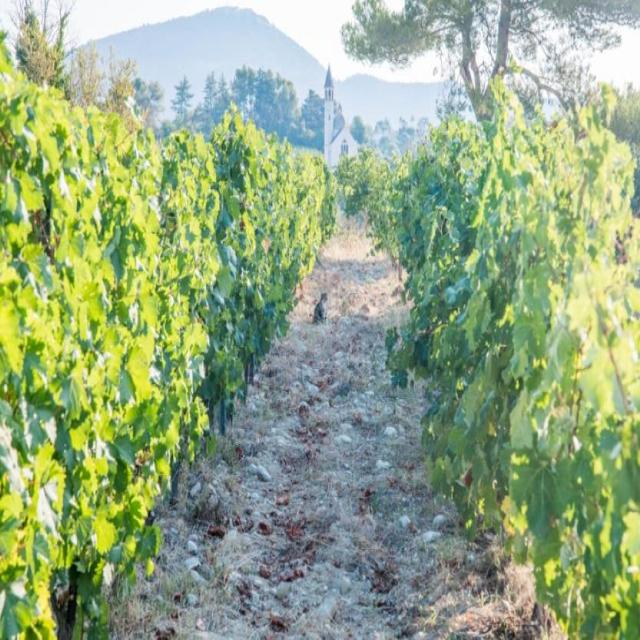row: (107, 226, 553, 640)
